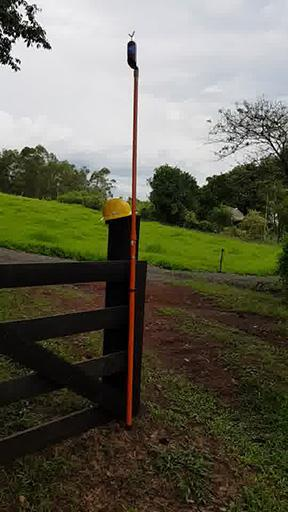Detector_Tensao_Contato: (126, 29, 138, 71)
Vara_Manobra: (125, 69, 141, 428)
